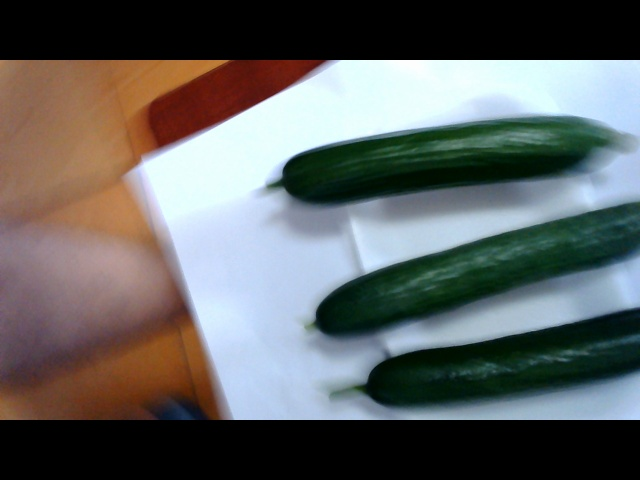cucumber: (291, 205, 640, 314), (275, 99, 619, 193), (334, 319, 640, 403)
